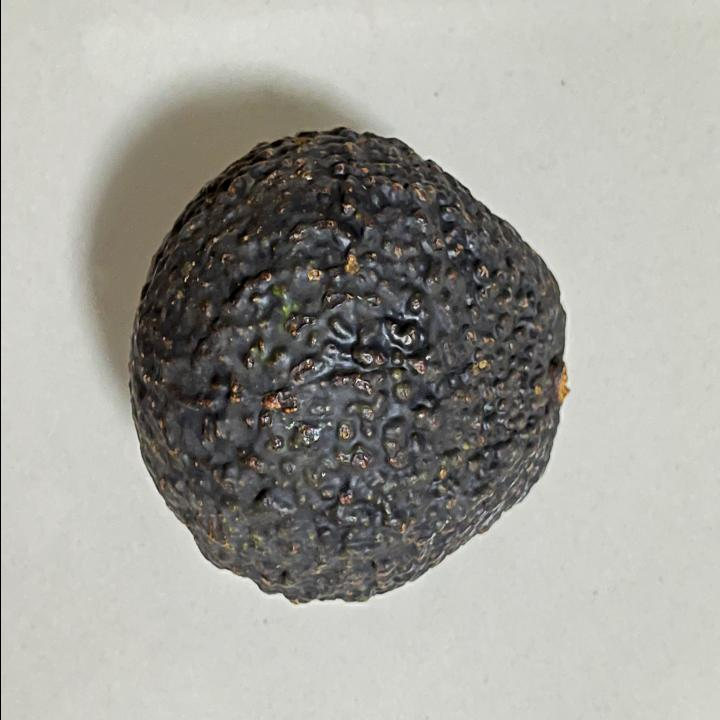Level2: (119, 116, 578, 612)
